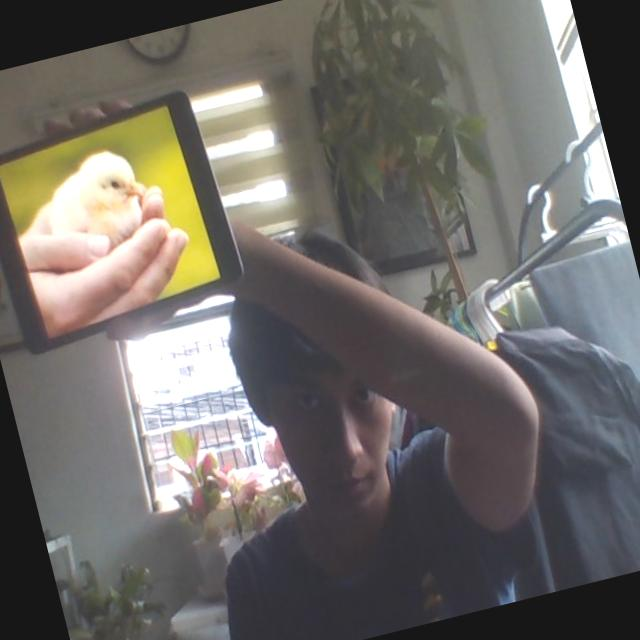Healthy: (41, 145, 158, 260)
